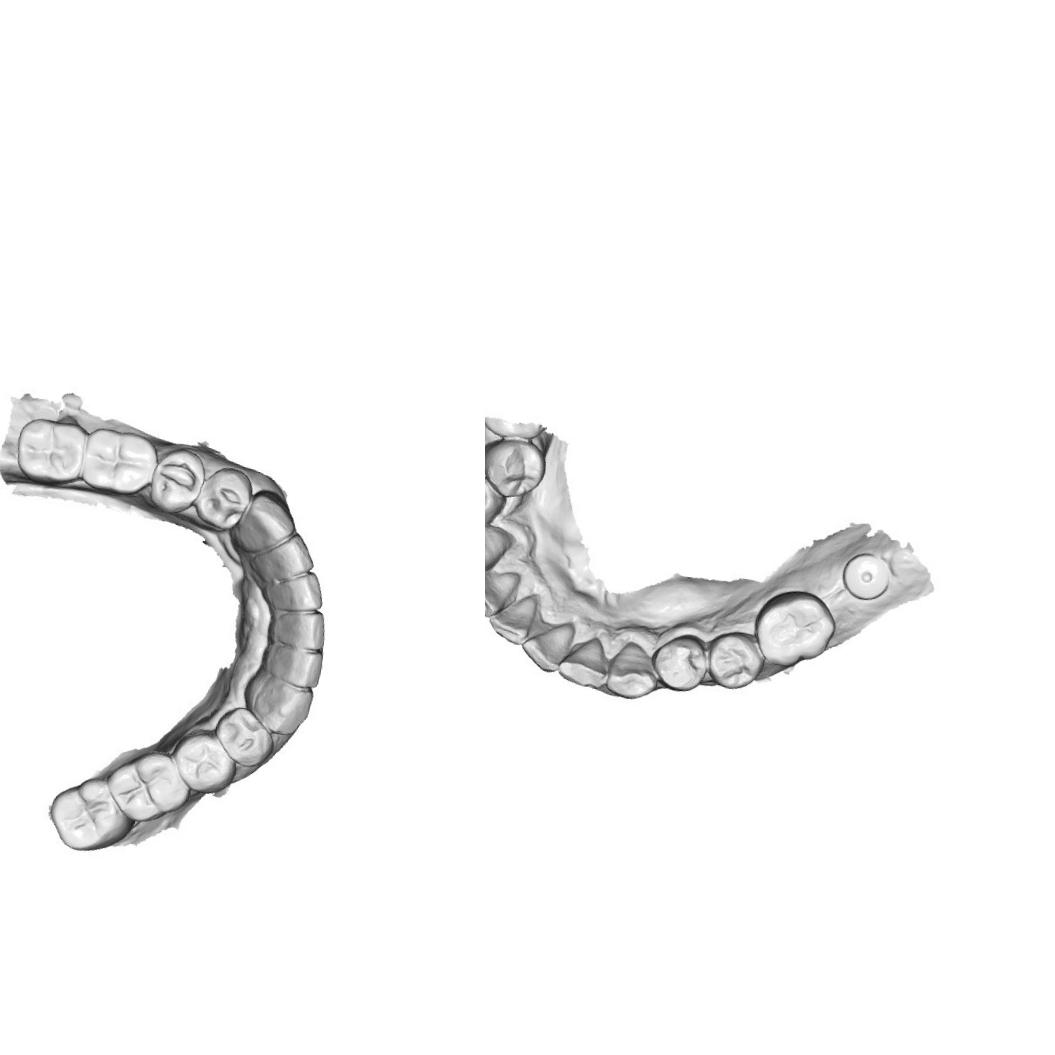canine: (236, 488, 298, 562), (248, 676, 313, 742), (608, 641, 665, 699), (485, 518, 516, 577)
implant: (838, 540, 902, 612)
incisor: (556, 634, 615, 692), (262, 566, 327, 614), (268, 607, 331, 656), (526, 616, 580, 668), (495, 590, 549, 641), (255, 534, 314, 580), (266, 646, 322, 688), (485, 562, 520, 619)
molar: (752, 583, 834, 674), (107, 750, 189, 828), (47, 773, 124, 850), (15, 409, 90, 488), (81, 426, 159, 501)
premolar: (210, 704, 276, 772), (175, 728, 236, 796), (485, 431, 545, 498), (149, 448, 204, 511), (655, 630, 711, 689), (710, 630, 764, 690), (200, 464, 248, 530), (485, 471, 508, 533)
